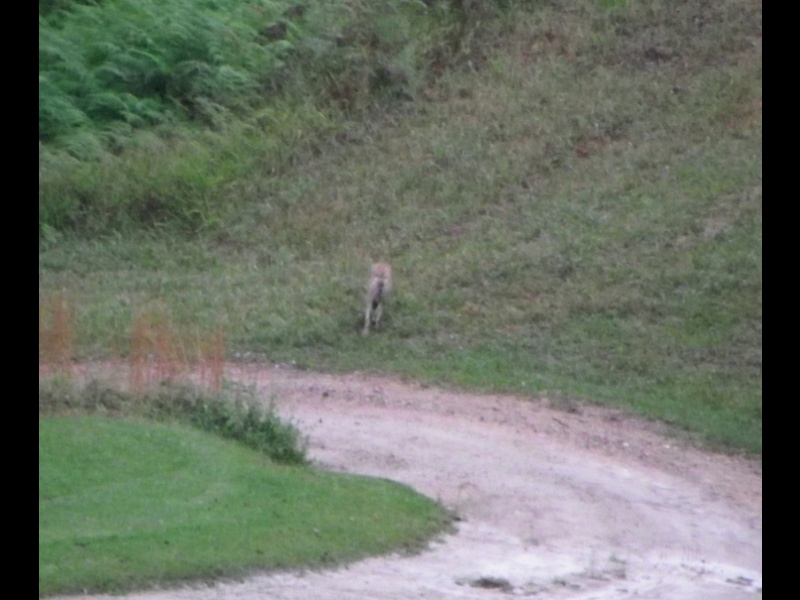dog: (357, 254, 391, 334)
